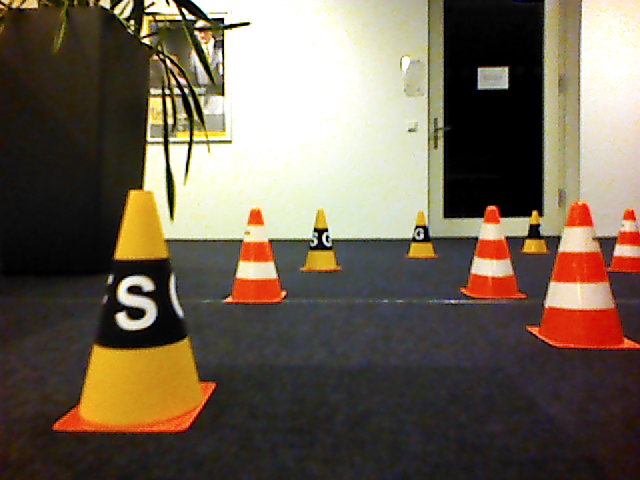orangeconesmall: (220, 208, 290, 306), (460, 206, 528, 300), (609, 208, 640, 273)
yellowcone: (50, 188, 218, 436), (301, 209, 343, 273), (404, 210, 439, 260), (521, 210, 553, 257)
